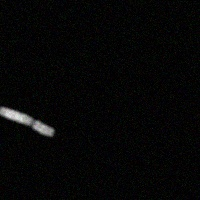chromosome: (0, 107, 53, 137)
